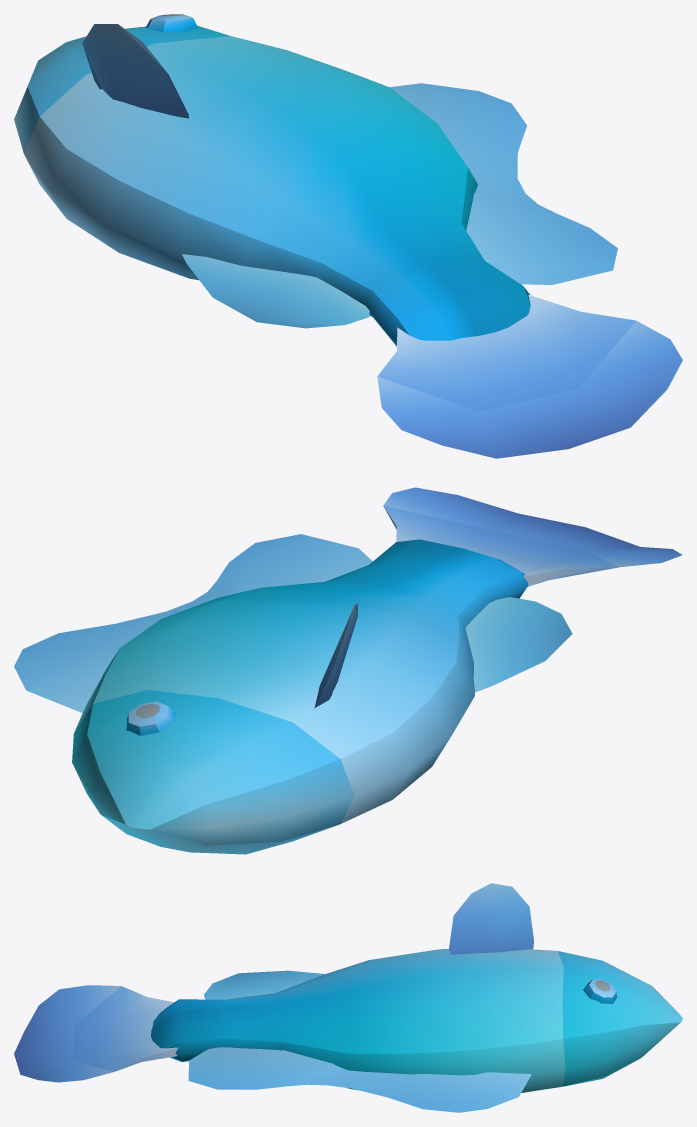
Rendered from fish_004.glb.
The picture shows the model from 3 angles, top to bottom: view 1: azimuth 30°, elevation 25°; view 2: azimuth 150°, elevation 25°; view 3: azimuth 270°, elevation 25°; orthographic projection. The views are drawn at different scales.
Visible parts, largest first — view 1: fish_004; view 2: fish_004; view 3: fish_004.
Boxes of the visible parts, left/top/right/bottom form: fish_004: left=14, top=14, right=682, bottom=458; fish_004: left=14, top=487, right=682, bottom=854; fish_004: left=14, top=883, right=682, bottom=1112.
Size of the model in its own units: 0.075 by 0.038 by 0.1454.
1 material, 1 textured.
